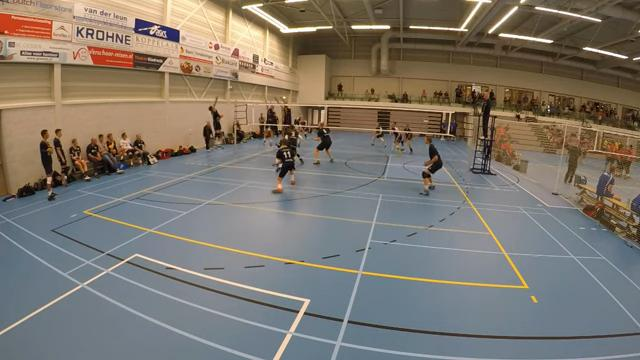Attack: (202, 92, 225, 149)
Block: (273, 93, 295, 142), (260, 94, 276, 151)
Player: (420, 135, 442, 195), (272, 138, 294, 193), (313, 122, 333, 164), (287, 127, 303, 164), (392, 122, 403, 155), (371, 123, 386, 147), (404, 124, 412, 153), (300, 119, 310, 139), (263, 126, 273, 146)
ball: (226, 84, 235, 91)
